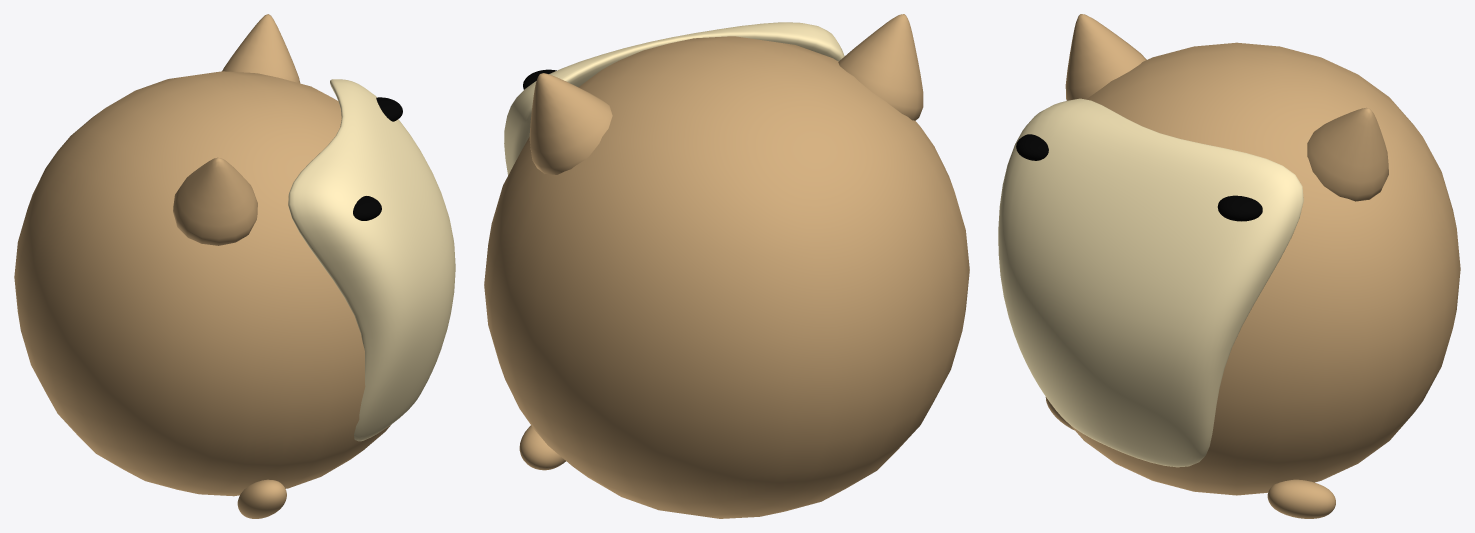
Rendered from GatoGordo.fbx.
The picture shows the model from 3 angles, left to right: view 1: azimuth 30°, elevation 25°; view 2: azimuth 150°, elevation 25°; view 3: azimuth 270°, elevation 25°; orthographic projection. The views are drawn at different scales.
Visible parts, largest first — view 1: Cube, Cube.007, Cube.003, Cube.004, Cube.006, Cube.001; view 2: Cube, Cube.004, Cube.007, Cube.003, Cube.005; view 3: Cube, Cube.007, Cube.004, Cube.003, Cube.005, Cube.002, Cube.001.
Boxes of the visible parts, <box> form: Cube: <box>14,71,390,496</box>; Cube.007: <box>288,79,455,441</box>; Cube.003: <box>173,157,257,245</box>; Cube.004: <box>222,14,300,83</box>; Cube.006: <box>237,479,286,518</box>; Cube.001: <box>353,196,381,220</box>; Cube: <box>484,36,969,518</box>; Cube.004: <box>529,73,612,174</box>; Cube.007: <box>504,22,844,175</box>; Cube.003: <box>838,14,923,120</box>; Cube.005: <box>519,425,565,470</box>; Cube: <box>1070,42,1460,495</box>; Cube.007: <box>998,98,1303,467</box>; Cube.004: <box>1307,107,1388,201</box>; Cube.003: <box>1065,14,1146,100</box>; Cube.005: <box>1267,479,1335,518</box>; Cube.002: <box>1217,195,1262,221</box>; Cube.001: <box>1016,134,1048,160</box>.
Size of the model in its own units: 410 by 399 by 402.
